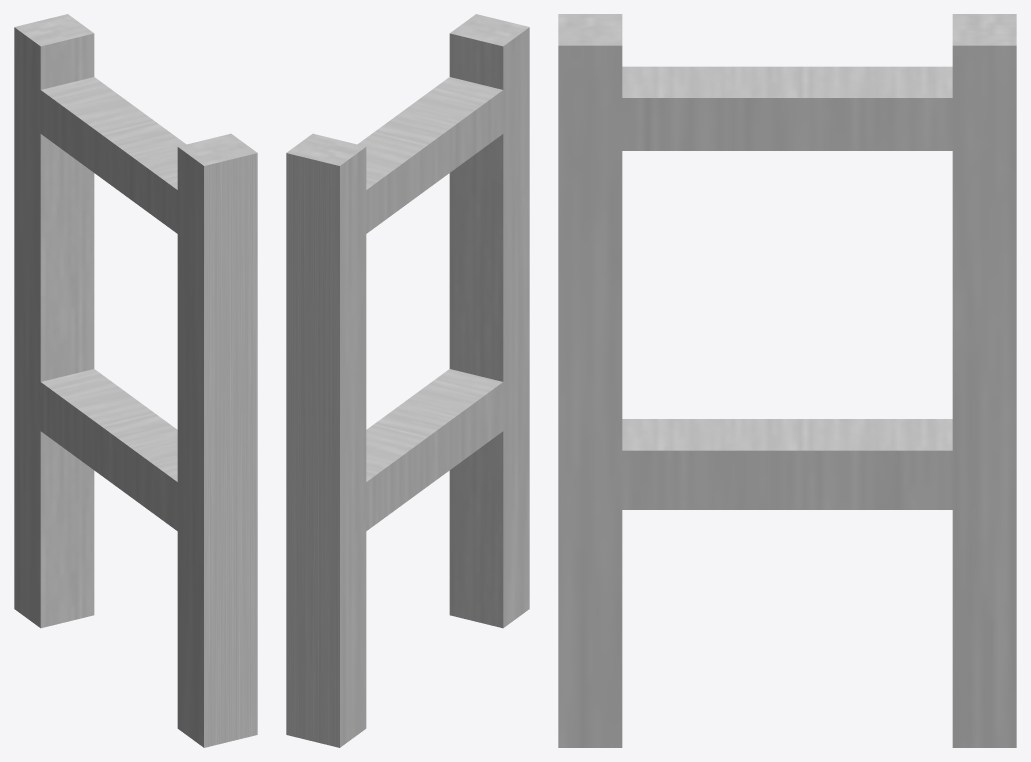
The model's file is ladder_tile.glb.
3 views of the same model, side by side, from view 1: azimuth 30°, elevation 25°; view 2: azimuth 150°, elevation 25°; view 3: azimuth 270°, elevation 25° (orthographic). The views are drawn at different scales.
Parts seen in each view (by area): view 1: Cube; view 2: Cube; view 3: Cube.
Part boxes in pixels (bbox=[...]): Cube: bbox=[14, 14, 257, 747]; Cube: bbox=[286, 14, 529, 747]; Cube: bbox=[558, 14, 1016, 747].
Bounding box in the file's own units: 0.326 × 3.38 × 2.
Materials: 1 (1 with a texture image).
